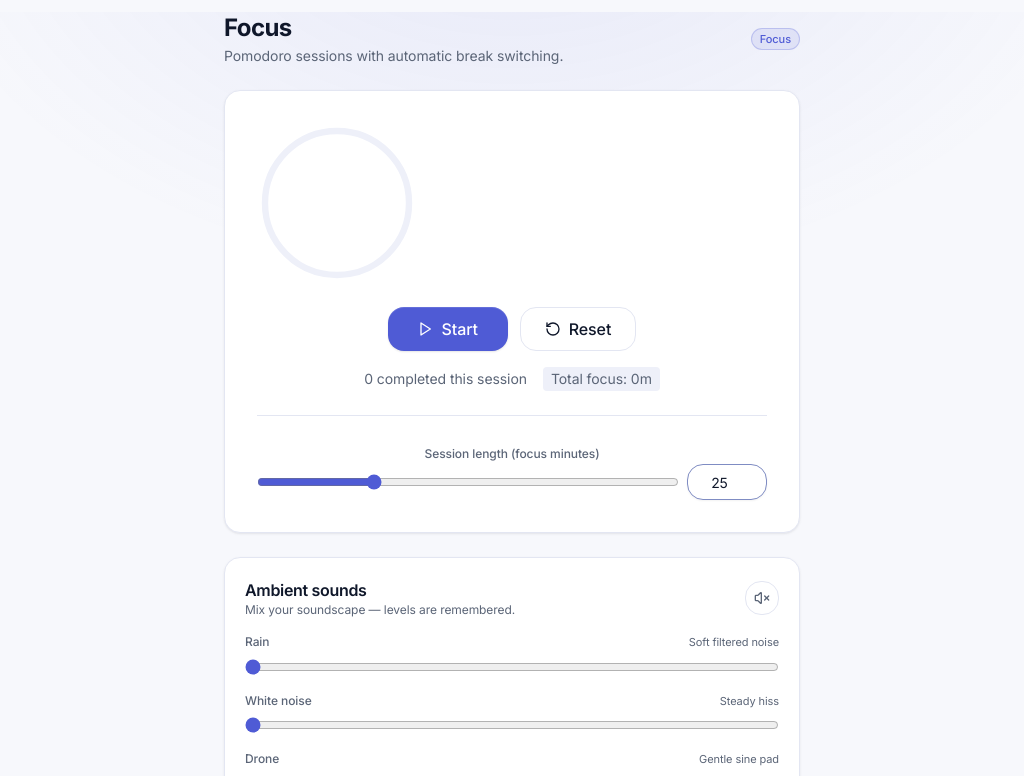
Test: the focus timer's completion › switches to the break and logs that run once too
Click the button "Start": (448, 329) [388,307,508,351]
Wait 1500000 ms
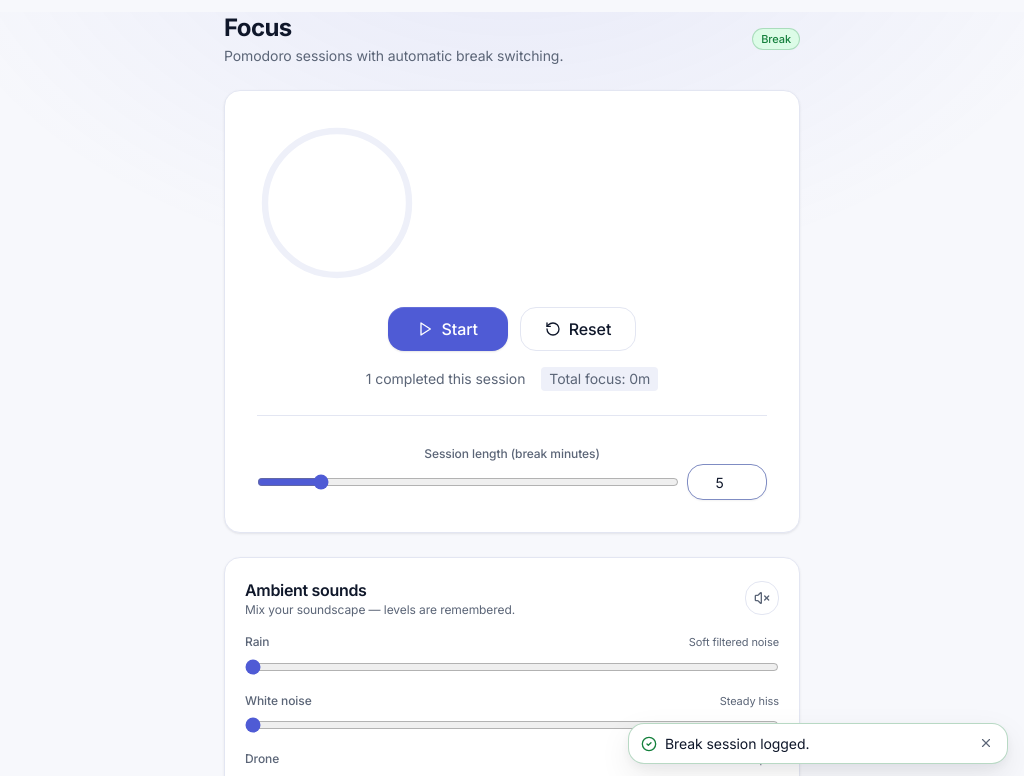
Expected: the text "Session length (break minutes)" is shown, [424,446,600,461]
Click the button "Start": (448, 329) [388,307,508,351]
Wait 300000 ms
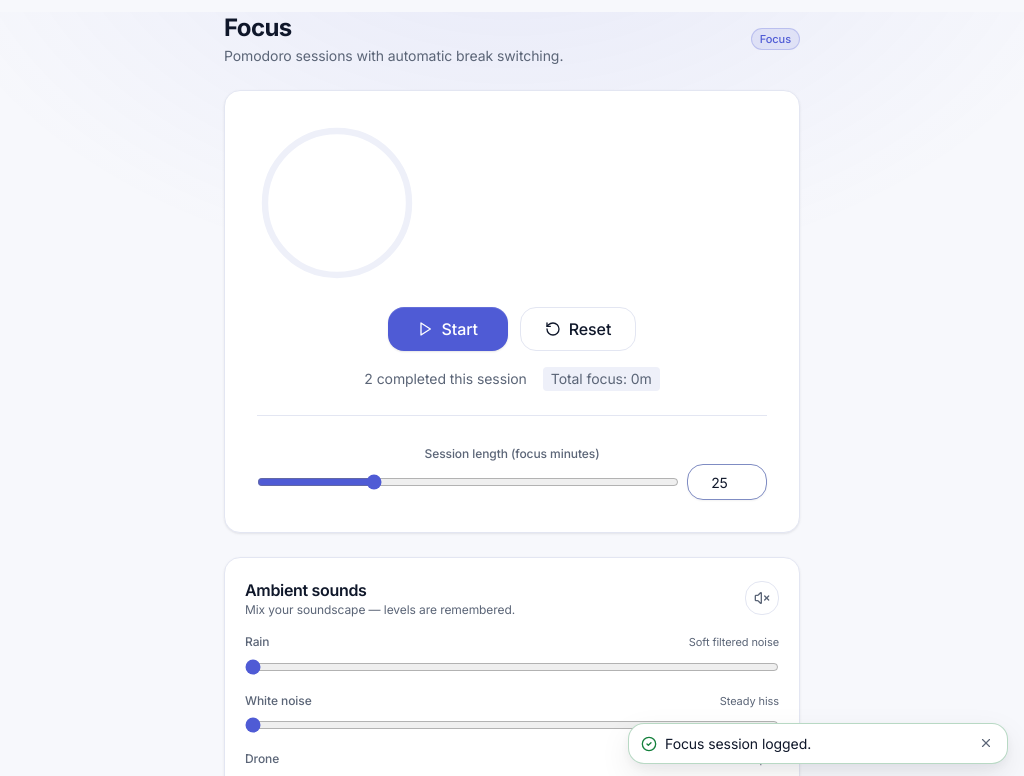
Expected: the text "2 completed this session" is shown, [364,369,527,389]
